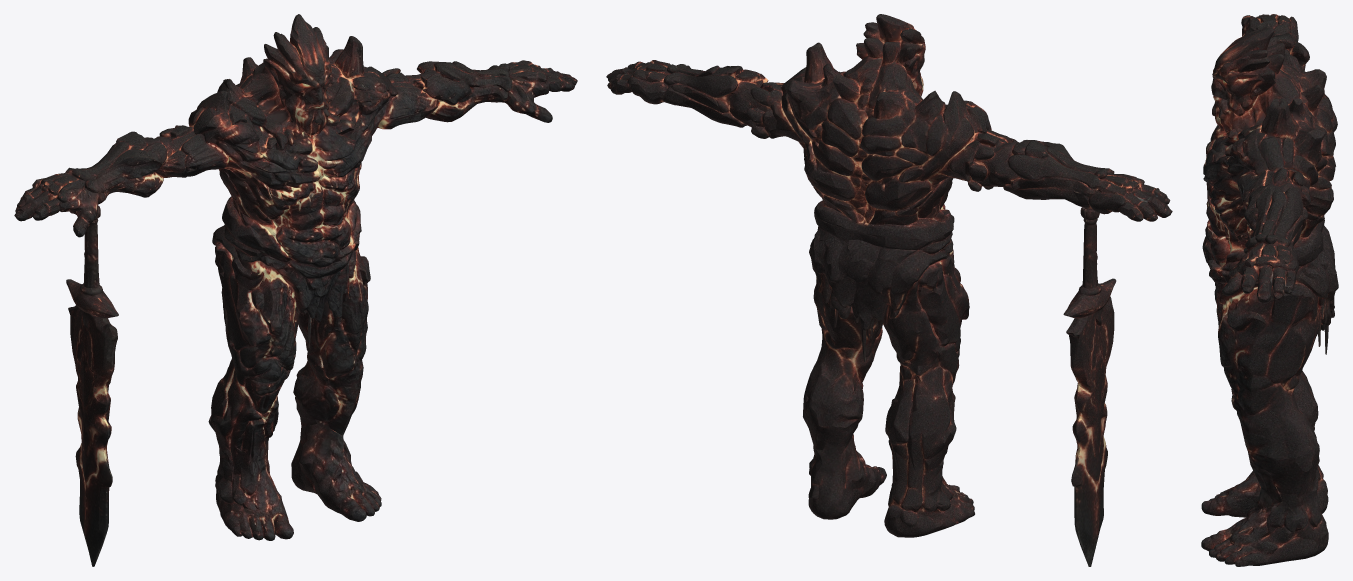
The model's file is VHARKAR-v2-tpose.glb.
The picture shows the model from 3 angles, left to right: view 1: azimuth 30°, elevation 25°; view 2: azimuth 150°, elevation 25°; view 3: azimuth 270°, elevation 25°; orthographic projection. The views are drawn at different scales.
Visible parts, largest first — view 1: mesh_node; view 2: mesh_node; view 3: mesh_node.
Part boxes in pixels (x1,y1,x2,y2): mesh_node: (14, 14, 577, 566); mesh_node: (606, 14, 1172, 566); mesh_node: (1201, 14, 1338, 566).
Size of the model in its own units: 1.9 by 1.62 by 0.3917.
1 material, 1 textured.
